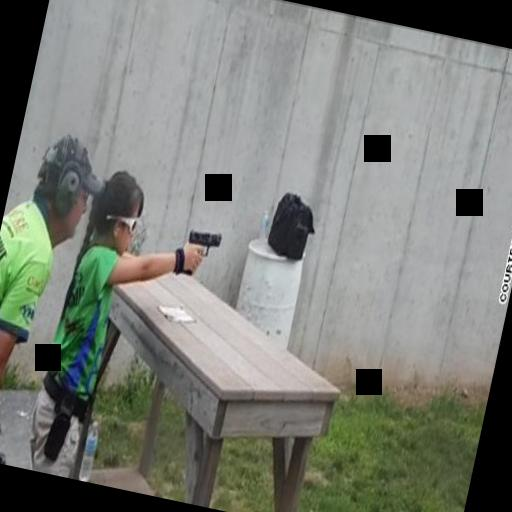Handgun: (178, 226, 223, 278)
